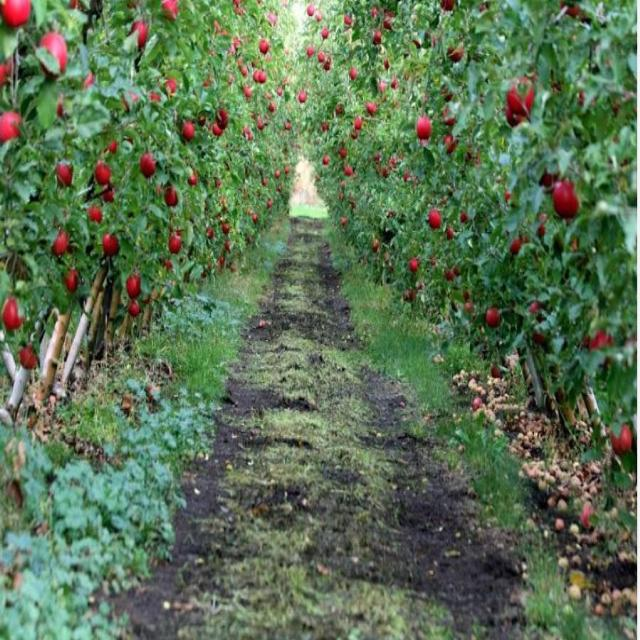row: (82, 213, 586, 640)
